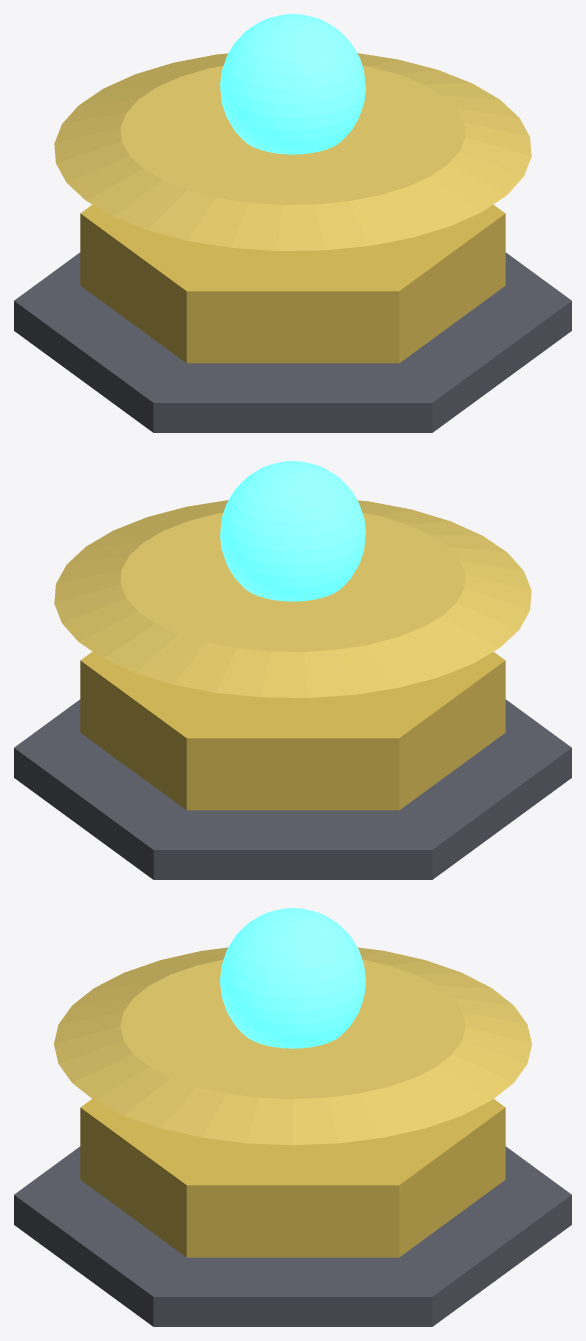
Rendered from CO_ConYard_LOD0.glb.
3 views of the same model, one above another, from view 1: azimuth 30°, elevation 25°; view 2: azimuth 150°, elevation 25°; view 3: azimuth 270°, elevation 25° (orthographic).
Parts seen in each view (by area): view 1: Cone, Cylinder.001, Cylinder, Sphere; view 2: Cone, Cylinder.001, Cylinder, Sphere; view 3: Cone, Cylinder.001, Cylinder, Sphere.
Part boxes in pixels (x1,y1,x2,y2): Cone: (54, 53, 531, 250); Cylinder.001: (80, 204, 505, 363); Cylinder: (14, 252, 571, 432); Sphere: (220, 14, 365, 154); Cone: (54, 500, 531, 697); Cylinder.001: (80, 651, 505, 810); Cylinder: (14, 699, 571, 879); Sphere: (220, 461, 365, 601); Cone: (54, 947, 531, 1145); Cylinder.001: (80, 1099, 505, 1257); Cylinder: (14, 1146, 571, 1326); Sphere: (220, 908, 365, 1048).
Size of the model in its own units: 7.27 by 5.15 by 8.4.
